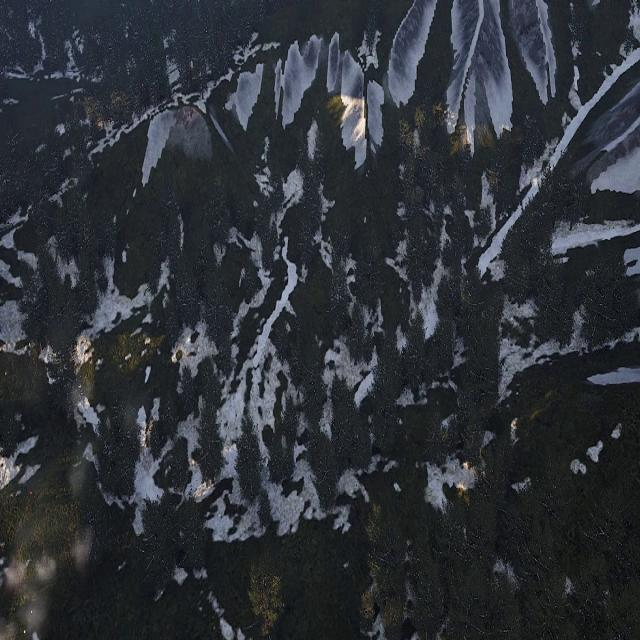smoke: (0, 550, 59, 640), (67, 440, 97, 501), (73, 524, 100, 579)
